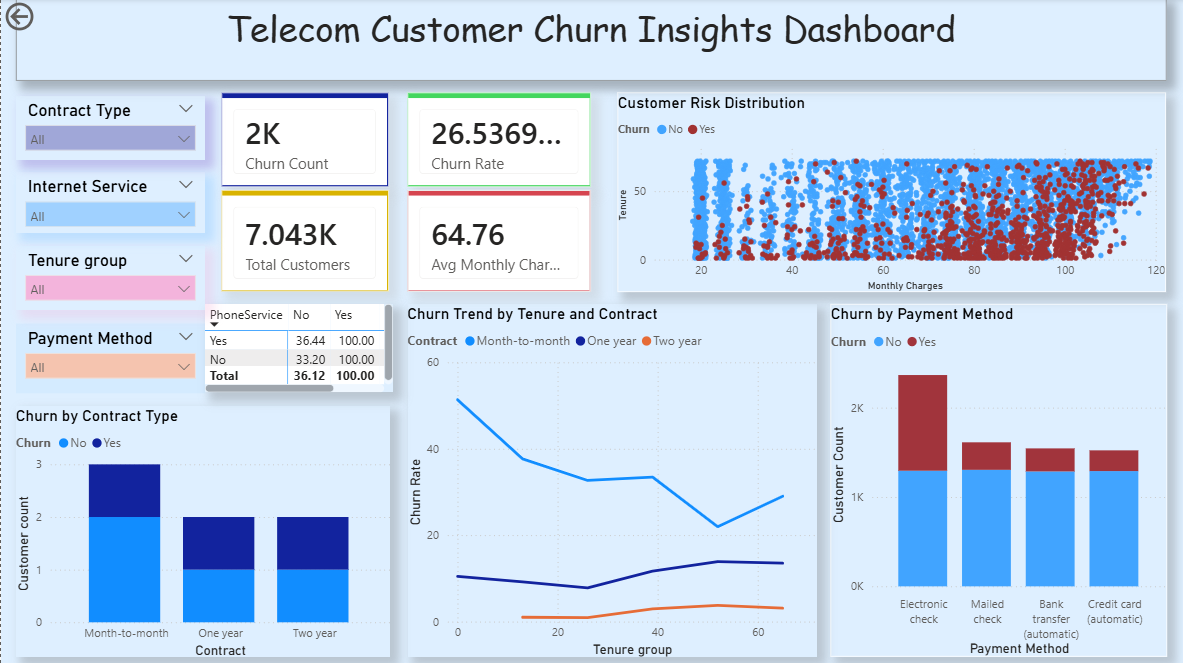

What the dashboard file says about the page in this screenshot:
{"tool":"powerbi","page":{"name":"Page 1","canvas":[1280,720],"ordinal":0},"visuals":[{"type":"textbox","box":[15.8,0,1242.1,89.5],"z":0},{"type":"cardVisual","fields":{"Data":["telecomchurnanalysis.Churn Rate new"]},"box":[438.5,101.9,198.1,101.9],"z":1000},{"type":"cardVisual","fields":{"Data":["telecomchurnanalysis.Churn Count"]},"box":[238.5,101.9,180.8,101.9],"z":2000},{"type":"cardVisual","fields":{"Data":["Count(telecomchurnanalysis.customerID)"]},"box":[238.5,207.7,180.8,109.6],"z":3000},{"type":"lineChart","title":"Churn Trend by Tenure and Contract","fields":{"Category":["telecomchurnanalysis.tenure group"],"Y":["telecomchurnanalysis.Churn Rate new"],"Series":["telecomchurnanalysis.Contract"]},"box":[438.5,330.8,442.3,380.8],"z":4000},{"type":"columnChart","title":"Churn by Contract Type","fields":{"Category":["telecomchurnanalysis.Contract"],"Y":["Count(telecomchurnanalysis.Total Customers)"],"Series":["telecomchurnanalysis.Churn"]},"box":[15.4,440.4,403.8,271.2],"z":5000},{"type":"pivotTable","fields":{"Rows":["telecomchurnanalysis.PhoneService"],"Columns":["telecomchurnanalysis.Churn"],"Values":["telecomchurnanalysis.Churn Rate new"]},"box":[240.4,330.8,178.8,100],"z":6000},{"type":"scatterChart","title":"Customer Risk Distribution","fields":{"X":["telecomchurnanalysis.MonthlyCharges"],"Y":["telecomchurnanalysis.tenure"],"Series":["telecomchurnanalysis.Churn"]},"box":[665.4,101.9,592.3,215.4],"z":7000},{"type":"columnChart","title":"Churn by Payment Method","fields":{"Y":["CountNonNull(telecomchurnanalysis.customerID)"],"Category":["telecomchurnanalysis.PaymentMethod"],"Series":["telecomchurnanalysis.Churn"]},"box":[896.2,330.8,363.5,380.8],"z":8000},{"type":"actionButton","box":[0,0,100,40],"z":9000},{"type":"slicer","fields":{"Values":["telecomchurnanalysis.Contract"]},"box":[15.4,105.8,203.8,69.2],"z":10000},{"type":"slicer","fields":{"Values":["telecomchurnanalysis.PaymentMethod"]},"box":[15.4,351.9,203.8,75],"z":11000},{"type":"slicer","title":"internet service","fields":{"Values":["telecomchurnanalysis.InternetService"]},"box":[15.4,188.5,203.8,65.4],"z":12000},{"type":"slicer","fields":{"Values":["telecomchurnanalysis.tenure group"]},"box":[15.4,267.3,203.8,69.2],"z":13000},{"type":"cardVisual","fields":{"Data":["Avg(telecomchurnanalysis.MonthlyCharges)"]},"box":[438.5,207.7,198.1,109.6],"z":14000}]}

Visuals, with their boxes in screenshot pixels (x1, y1, x2, y2), scaled from the page's 1280x720 canvas onto the 1183x663 screenshot:
textbox: (15,0,1163,82)
cardVisual - telecomchurnanalysis.Churn Rate new: (405,94,588,188)
cardVisual - telecomchurnanalysis.Churn Count: (220,94,388,188)
cardVisual - Count(telecomchurnanalysis.customerID): (220,191,388,292)
"Churn Trend by Tenure and Contract" lineChart: (405,305,814,655)
"Churn by Contract Type" columnChart: (14,406,387,655)
pivotTable - telecomchurnanalysis.PhoneService x telecomchurnanalysis.Churn: (222,305,387,397)
"Customer Risk Distribution" scatterChart: (615,94,1162,292)
"Churn by Payment Method" columnChart: (828,305,1164,655)
actionButton: (0,0,92,37)
slicer - telecomchurnanalysis.Contract: (14,97,203,161)
slicer - telecomchurnanalysis.PaymentMethod: (14,324,203,393)
"internet service" slicer: (14,174,203,234)
slicer - telecomchurnanalysis.tenure group: (14,246,203,310)
cardVisual - Avg(telecomchurnanalysis.MonthlyCharges): (405,191,588,292)
